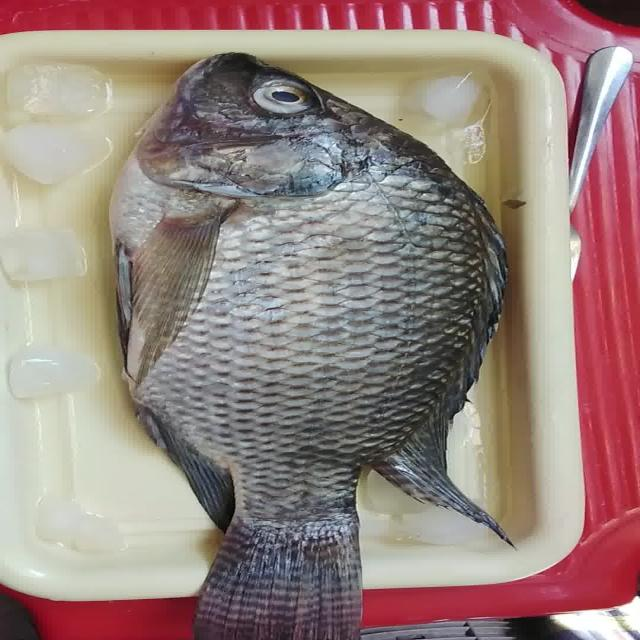Fresh: (107, 147, 497, 399), (237, 72, 328, 119)
